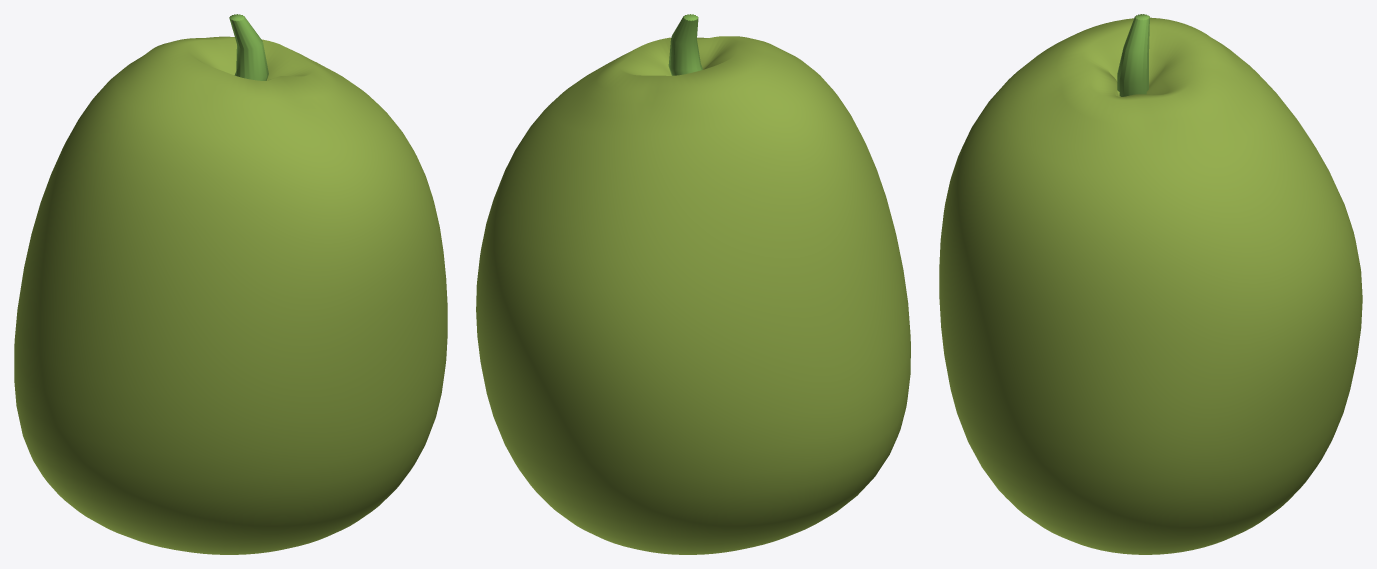
File: Watermelon.glb
3 renders of one model, left to right at view 1: azimuth 30°, elevation 25°; view 2: azimuth 150°, elevation 25°; view 3: azimuth 270°, elevation 25°, orthographic.
Parts seen in each view (by area): view 1: Sphere, Circle; view 2: Sphere, Circle; view 3: Sphere, Circle.
Part boxes in pixels (x1=…): Sphere: x1=14, y1=36, x2=447, y2=554; Circle: x1=229, y1=14, x2=268, y2=80; Sphere: x1=476, y1=36, x2=910, y2=554; Circle: x1=668, y1=14, x2=702, y2=75; Sphere: x1=939, y1=17, x2=1362, y2=554; Circle: x1=1117, y1=14, x2=1149, y2=96.
Size of the model in its own units: 2.04 by 2.59 by 1.95.
